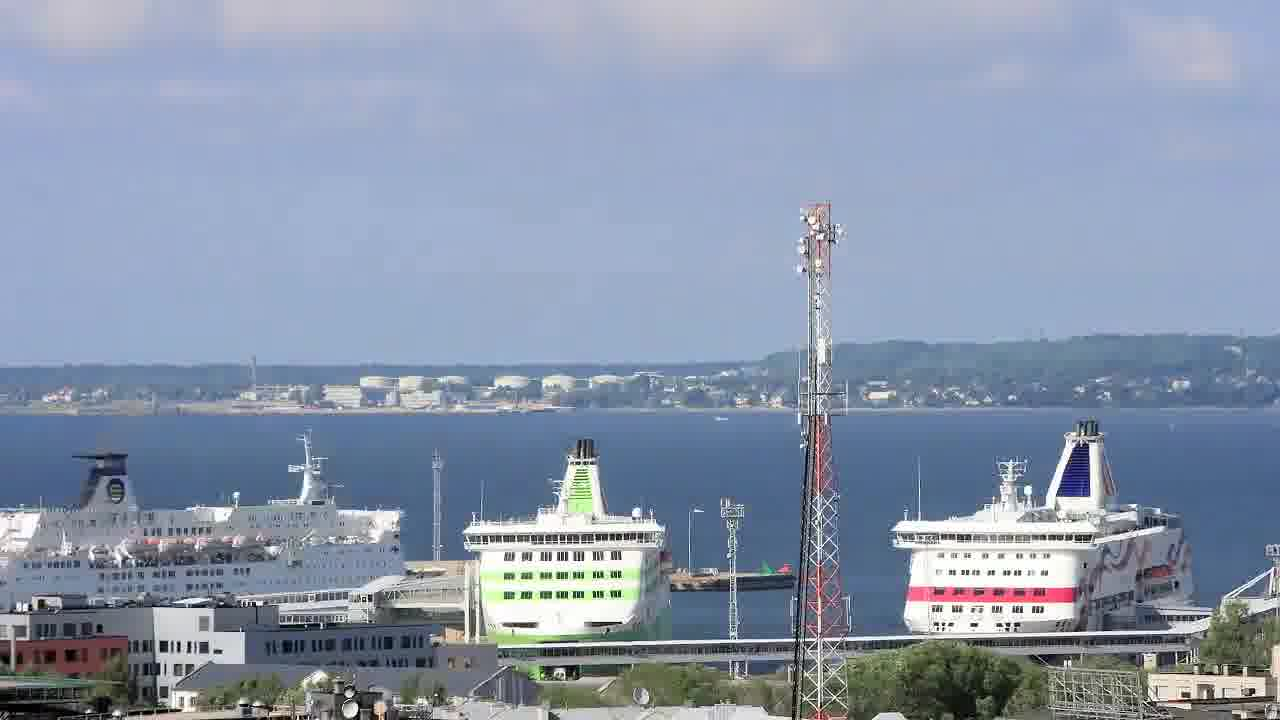type-3: (1, 433, 427, 626), (868, 415, 1225, 638), (436, 434, 694, 670)
